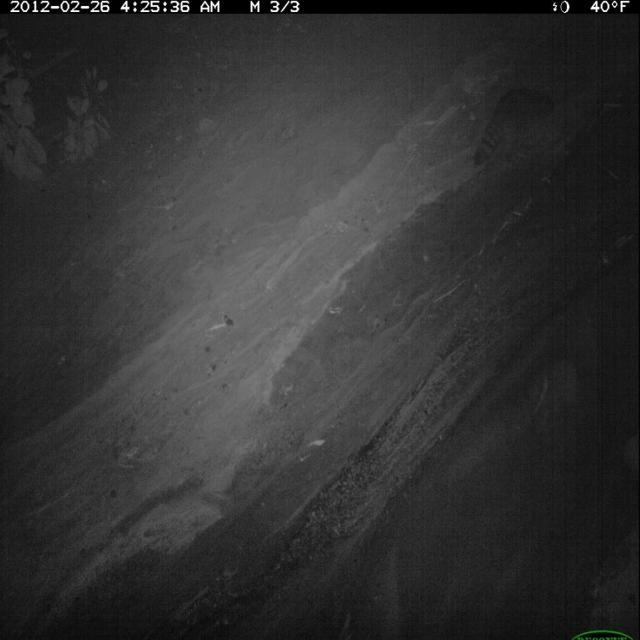raccoon: (468, 80, 562, 176)
